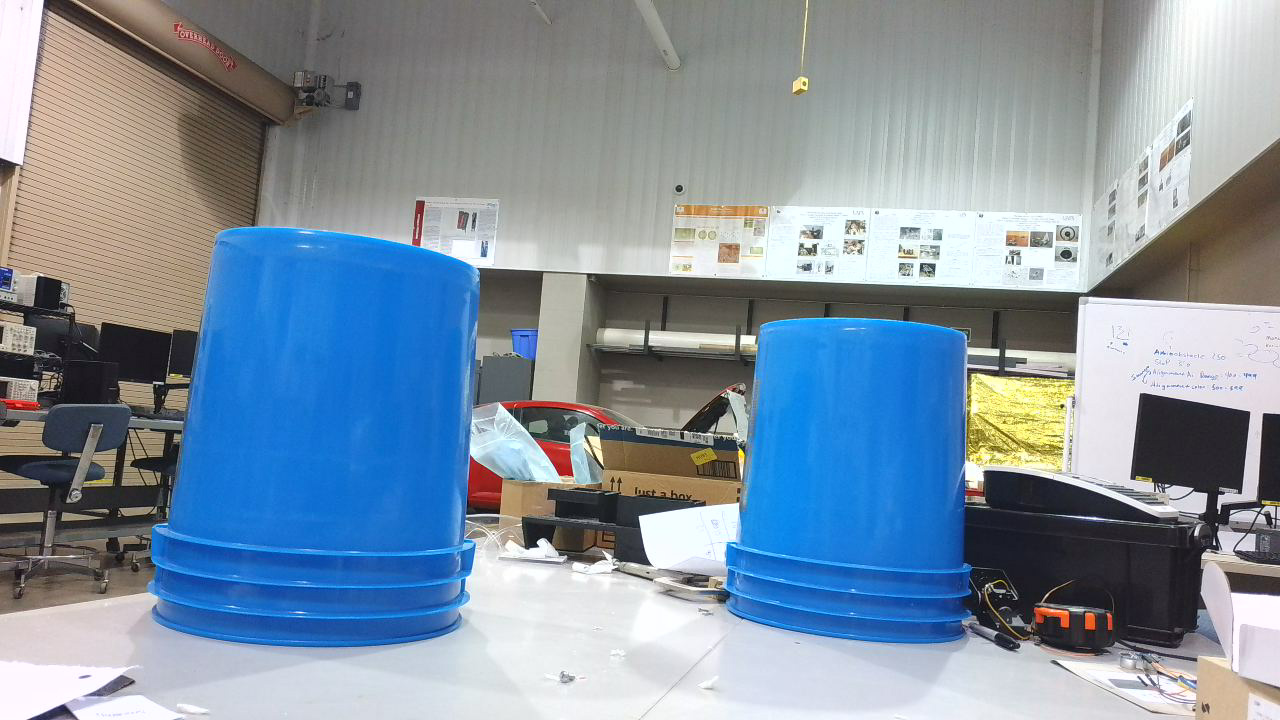blue_bucket: (150, 227, 491, 656), (725, 316, 982, 656)
